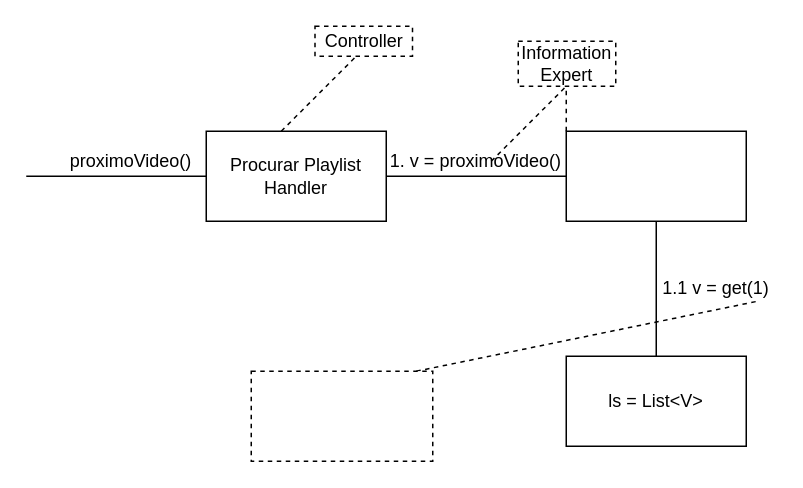
The diagram is 803 pixels wide and 488 high, and some of its shapes have lost their labels. Each missing label, with the box of its shape:
Catálogo Playlist: (565, 130, 746, 221)
Vídeos que existem dentro de ls: (250, 370, 433, 461)
